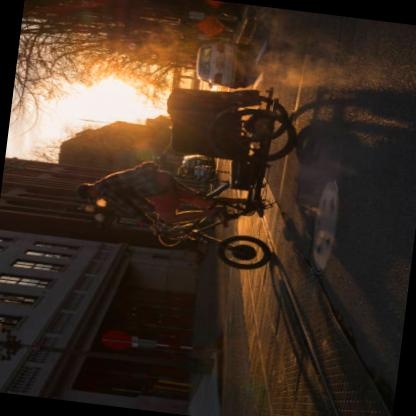manholes: (280, 154, 372, 286)
